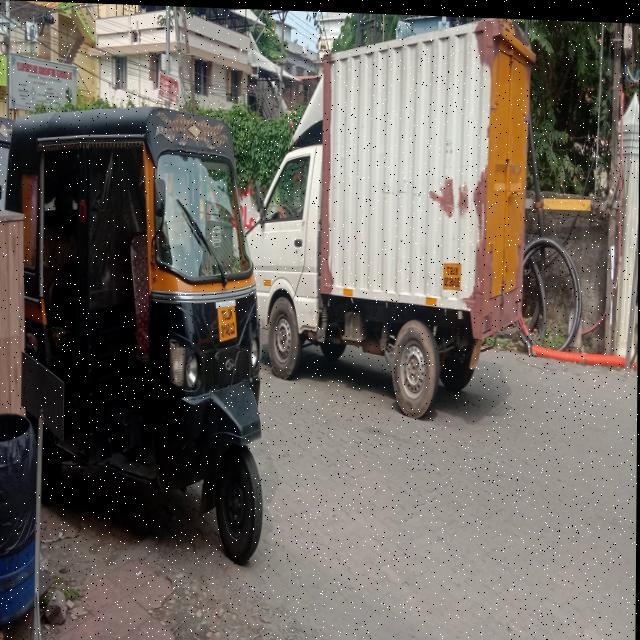plate: (217, 299, 239, 340), (442, 255, 464, 288)
